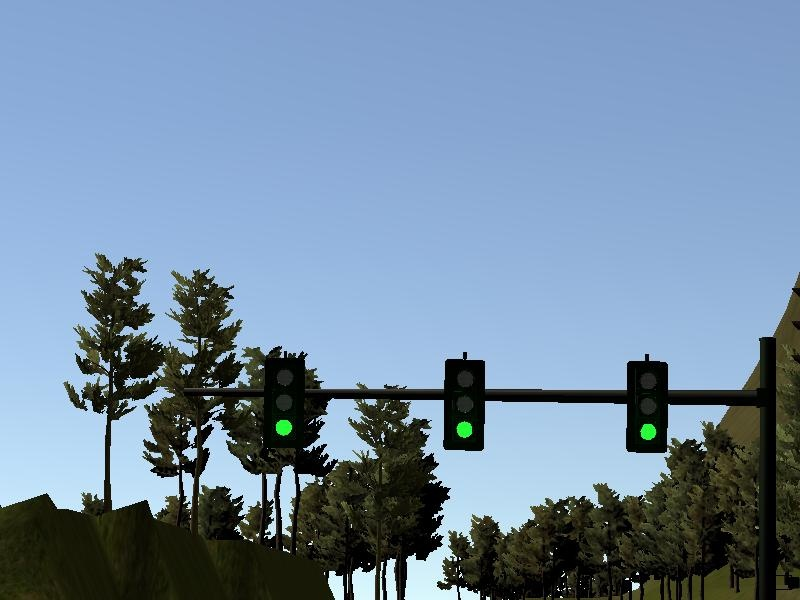GREEN: (628, 363, 670, 454), (446, 360, 486, 453), (266, 357, 303, 449)
